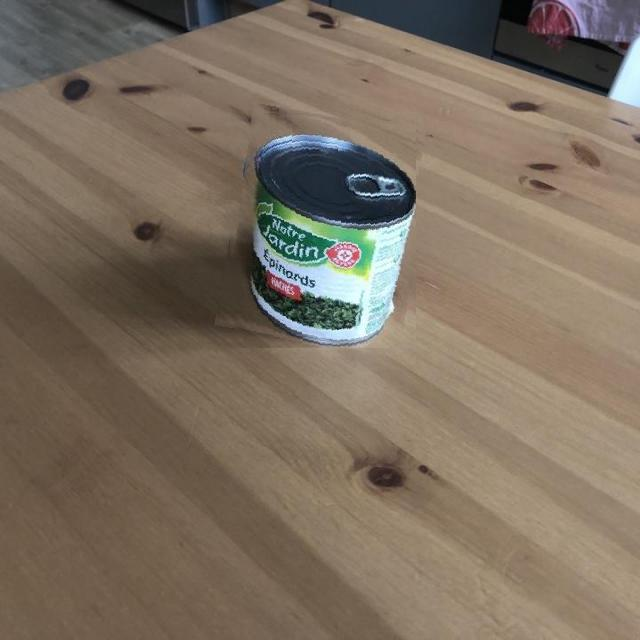recyclable: (223, 110, 416, 348)
